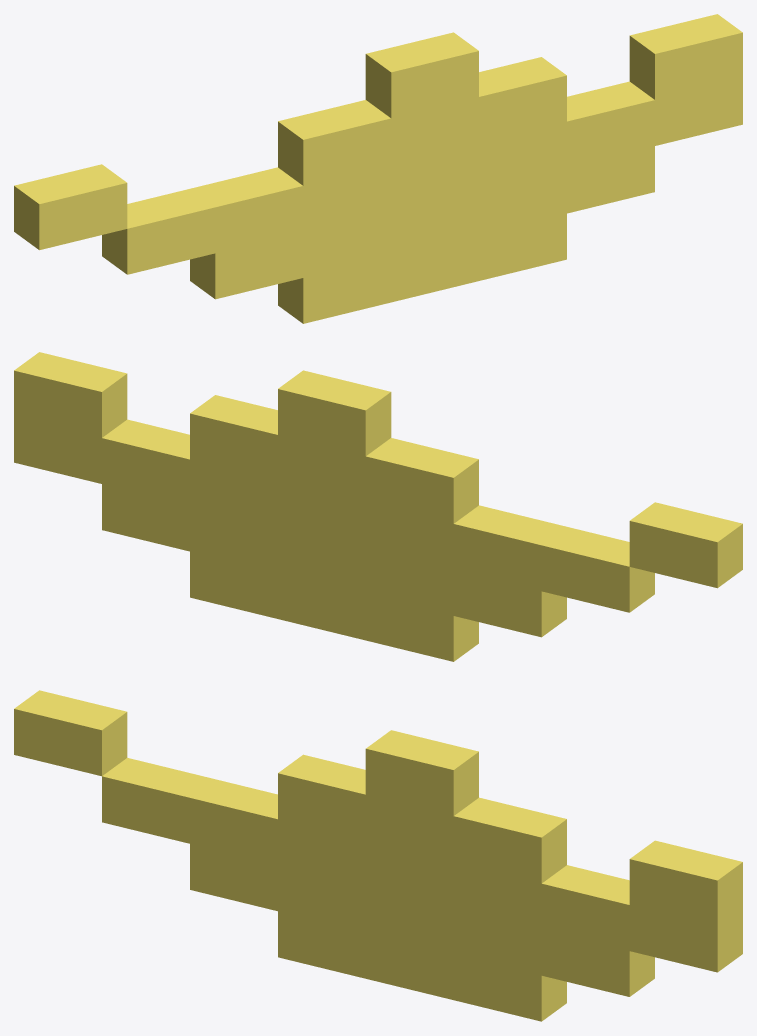
The model's file is Lamp-Yellow.vox.obj.
3 renders of one model, top to bottom at view 1: azimuth 30°, elevation 25°; view 2: azimuth 150°, elevation 25°; view 3: azimuth 330°, elevation 25°, orthographic.
Bounding box in the file's own units: 1.6 × 0.5 × 0.1.
Materials: 1 (1 with a texture image).
